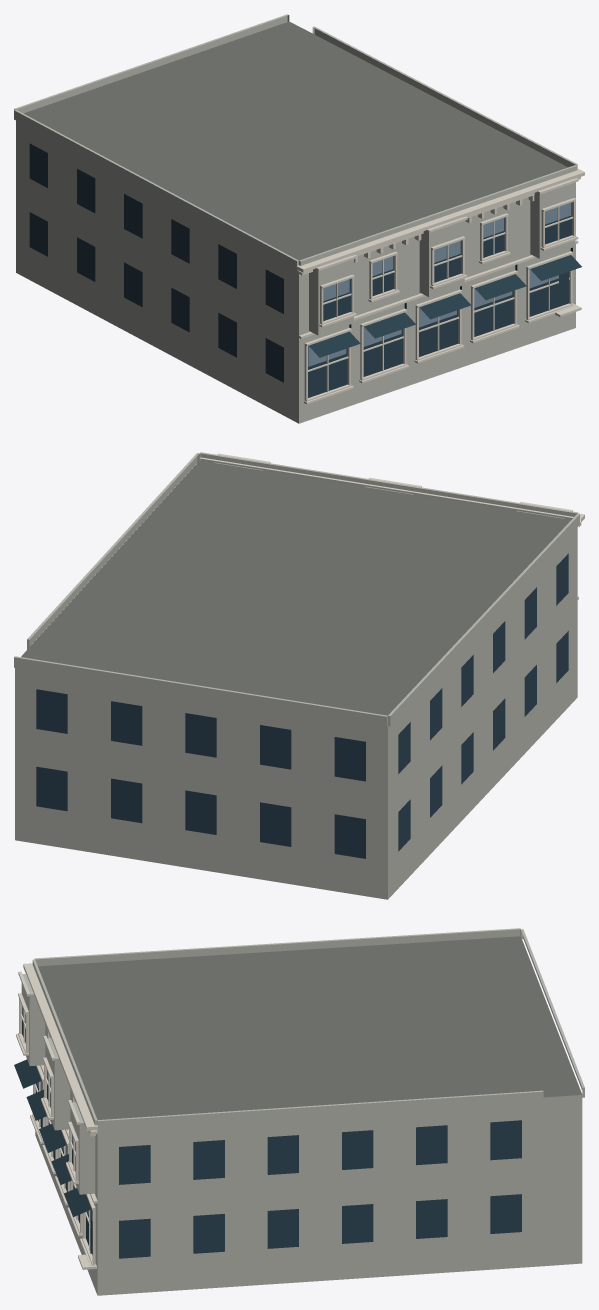
The picture shows the model from 3 angles, top to bottom: view 1: azimuth 30°, elevation 25°; view 2: azimuth 150°, elevation 25°; view 3: azimuth 270°, elevation 25°; orthographic projection. The views are drawn at different scales.
Parts seen in each view (by area): view 1: Footprint 0 / surface 1, Footprint 0 / surface 2, Inset glazing, Facade bay volumes, Cornices and window frames, Storefronts and doors, Sky reflection panels; view 2: Footprint 0 / surface 1, Footprint 0 / surface 2, Inset glazing, Facade bay volumes, Cornices and window frames; view 3: Footprint 0 / surface 1, Footprint 0 / surface 2, Inset glazing, Facade bay volumes, Cornices and window frames, Storefronts and doors.
Part boxes in pixels (<box>): Footprint 0 / surface 1: <box>23,21,567,260</box>; Footprint 0 / surface 2: <box>16,120,575,423</box>; Inset glazing: <box>29,143,572,397</box>; Facade bay volumes: <box>14,14,577,335</box>; Cornices and window frames: <box>296,168,584,404</box>; Storefronts and doors: <box>309,247,581,357</box>; Sky reflection panels: <box>308,202,571,366</box>; Footprint 0 / surface 1: <box>21,460,570,715</box>; Footprint 0 / surface 2: <box>15,527,577,899</box>; Inset glazing: <box>36,553,568,858</box>; Facade bay volumes: <box>14,452,579,727</box>; Cornices and window frames: <box>200,453,584,599</box>; Footprint 0 / surface 1: <box>38,936,582,1119</box>; Footprint 0 / surface 2: <box>35,1024,582,1295</box>; Inset glazing: <box>22,1013,521,1258</box>; Facade bay volumes: <box>21,928,584,1194</box>; Cornices and window frames: <box>16,963,97,1269</box>; Storefronts and doors: <box>14,1059,91,1253</box>.
Bounding box in the file's own units: 20.86 × 8.8 × 25.93.
